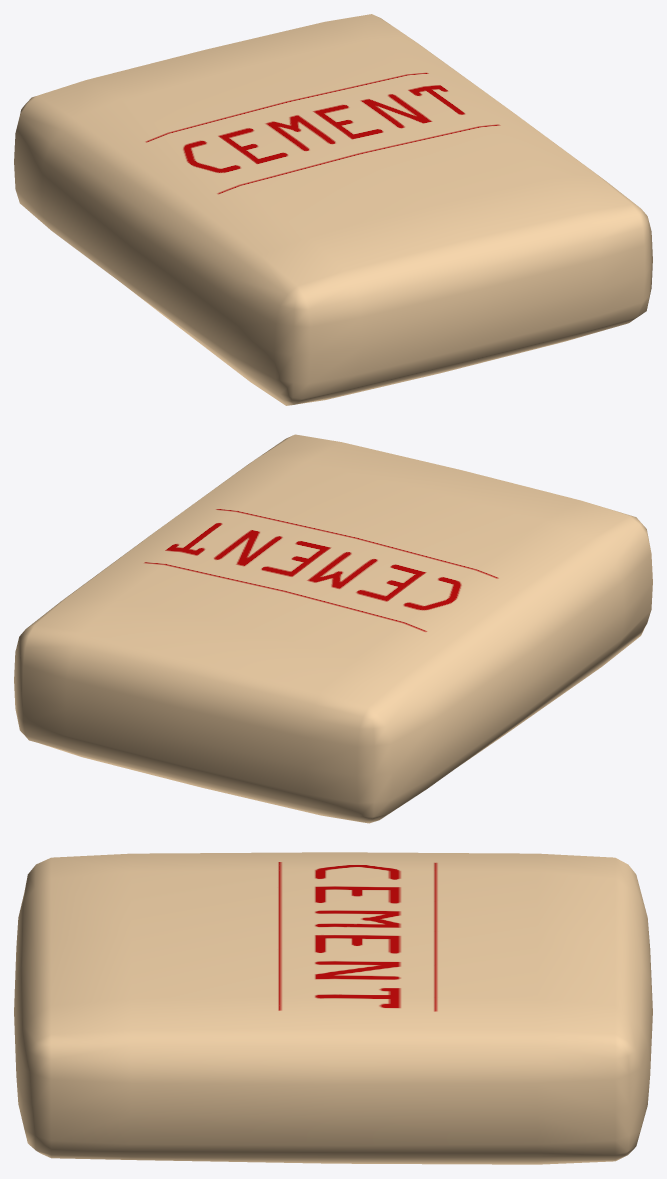
The model's file is CEMENT.fbx.
The picture shows the model from 3 angles, top to bottom: view 1: azimuth 30°, elevation 25°; view 2: azimuth 150°, elevation 25°; view 3: azimuth 270°, elevation 25°; orthographic projection. The views are drawn at different scales.
Parts seen in each view (by area): view 1: pCube1; view 2: pCube1; view 3: pCube1.
Part boxes in pixels (x1,y1,x2,y2): pCube1: (14, 14, 652, 405); pCube1: (14, 434, 652, 823); pCube1: (14, 852, 652, 1164).
Size of the model in its own units: 7.22 by 2.53 by 9.19.
1 material, 1 textured.
